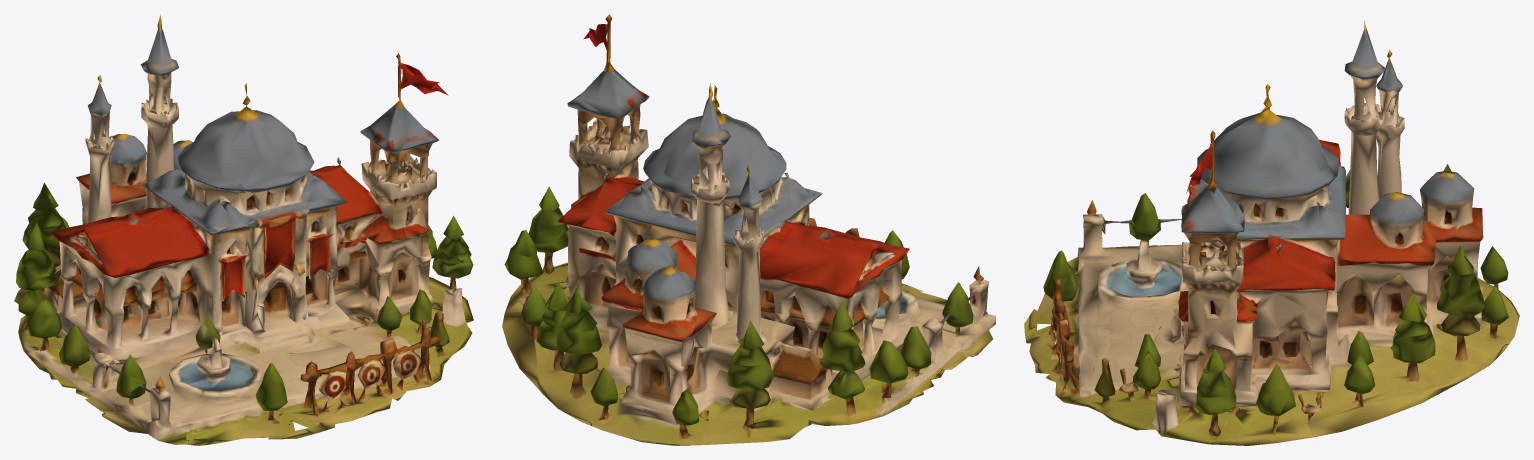
File: okyay.glb
3 views of the same model, side by side, from view 1: azimuth 30°, elevation 25°; view 2: azimuth 150°, elevation 25°; view 3: azimuth 270°, elevation 25° (orthographic). The views are drawn at different scales.
Visible parts, largest first — view 1: tripo_node_e3c8506e-13fe-4357-a3bc-3f2e7bd25002; view 2: tripo_node_e3c8506e-13fe-4357-a3bc-3f2e7bd25002; view 3: tripo_node_e3c8506e-13fe-4357-a3bc-3f2e7bd25002.
Part boxes in pixels (x1,y1,x2,y2): tripo_node_e3c8506e-13fe-4357-a3bc-3f2e7bd25002: (14, 14, 473, 445); tripo_node_e3c8506e-13fe-4357-a3bc-3f2e7bd25002: (502, 14, 995, 445); tripo_node_e3c8506e-13fe-4357-a3bc-3f2e7bd25002: (1024, 20, 1519, 445).
Bounding box in the file's own units: 0.9654 × 0.6986 × 0.9745.
1 material, 1 textured.
